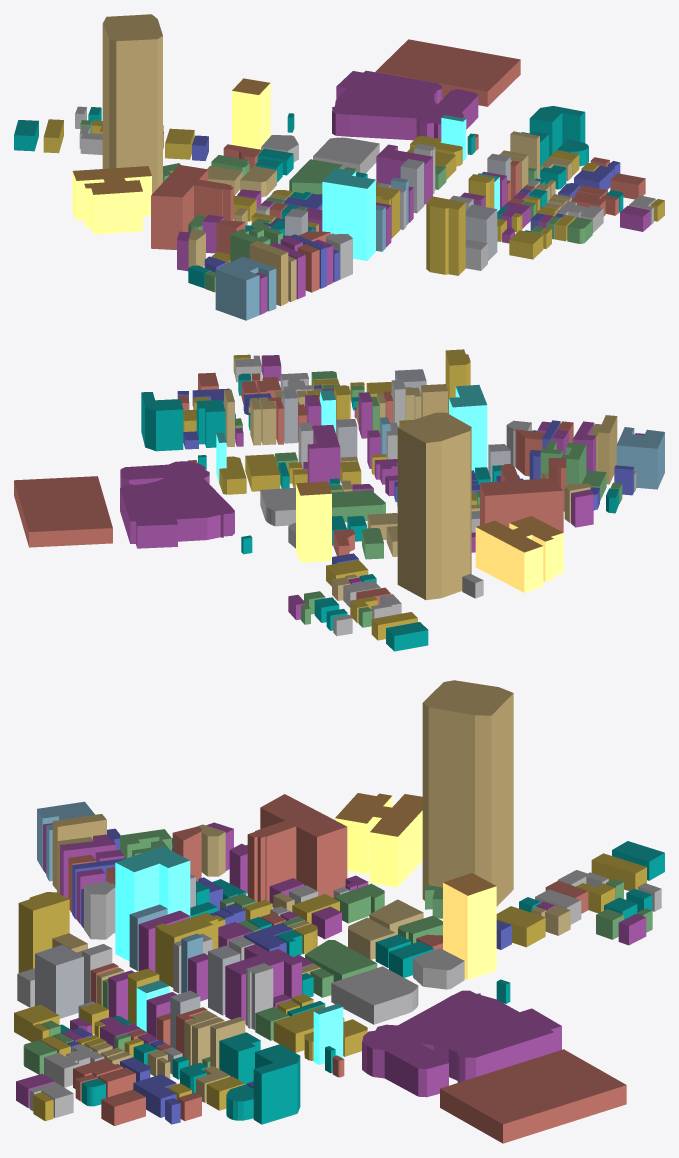
File: shibuya-11.glb
3 renders of one model, top to bottom at view 1: azimuth 30°, elevation 25°; view 2: azimuth 150°, elevation 25°; view 3: azimuth 270°, elevation 25°, orthographic. The views are drawn at different scales.
Parts seen in each view (by area): view 1: shibuya-11; view 2: shibuya-11; view 3: shibuya-11.
Part boxes in pixels (<box>): shibuya-11: <box>14,14,664,320</box>; shibuya-11: <box>14,349,664,651</box>; shibuya-11: <box>14,680,664,1143</box>.
Bounding box in the file's own units: 401 × 122 × 368.
